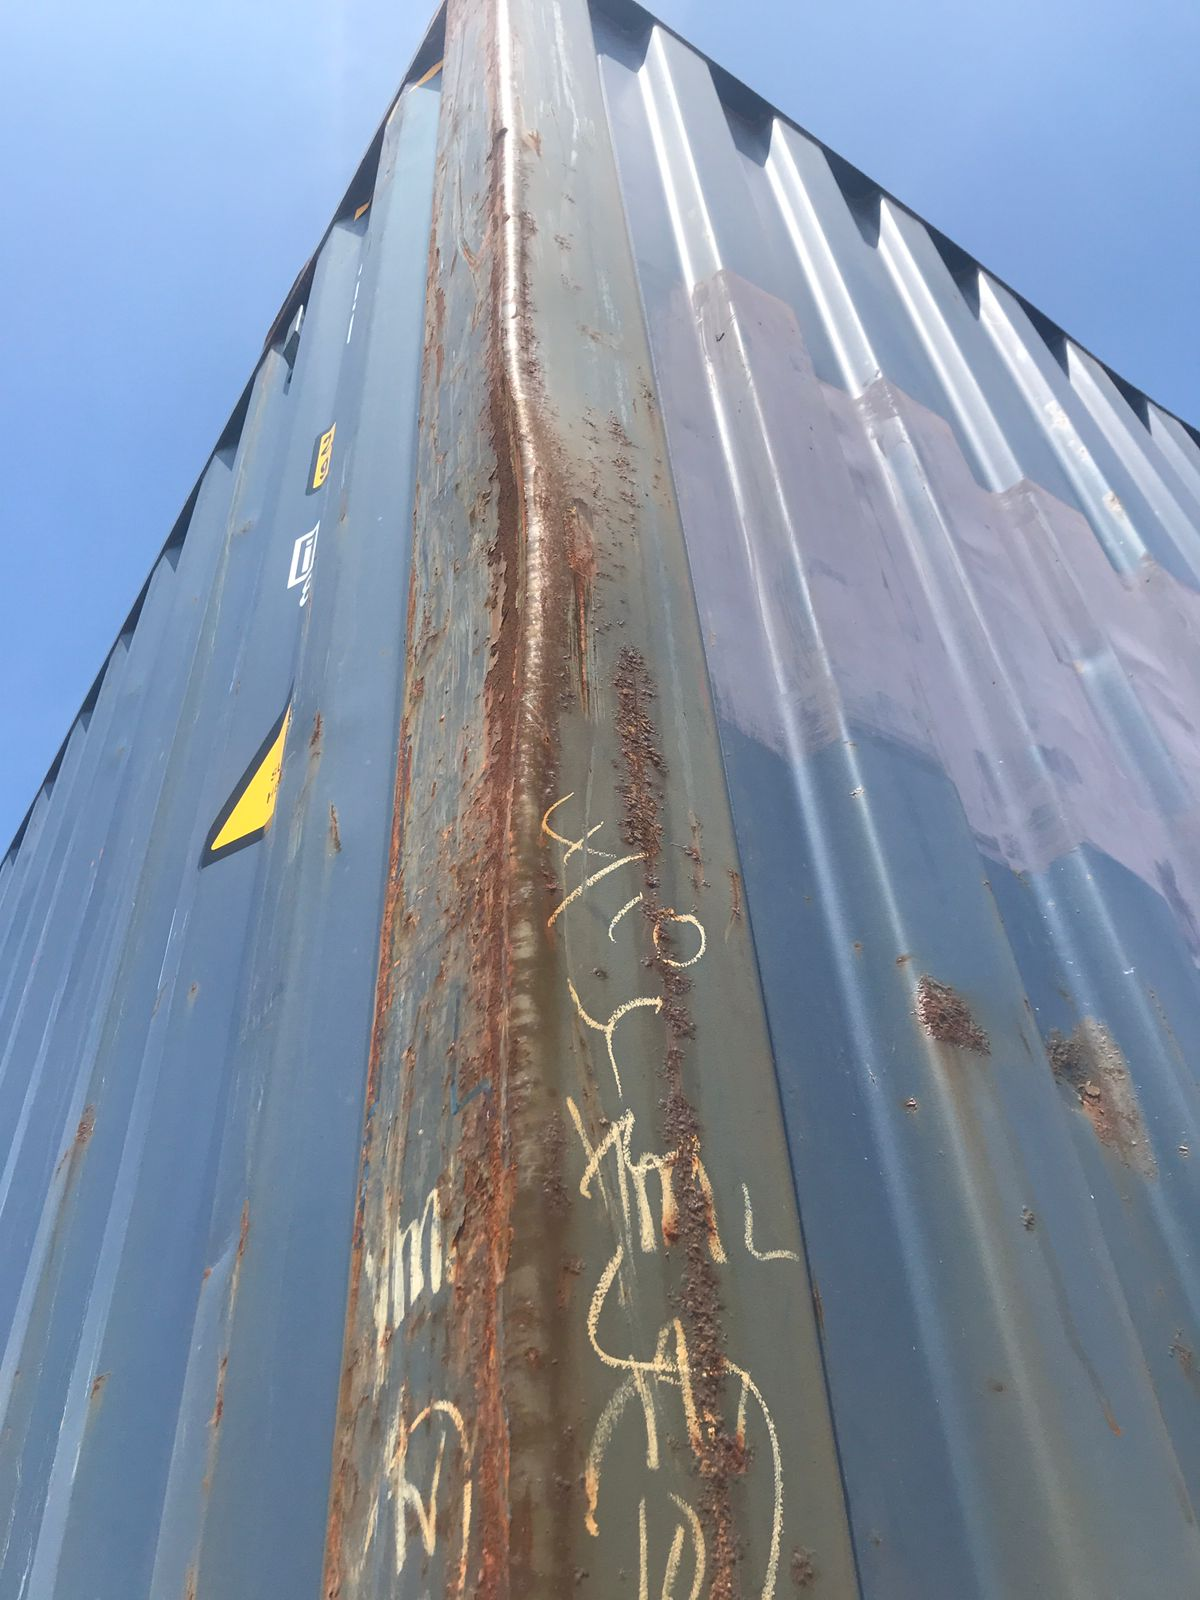rust: (447, 140, 667, 1189), (891, 952, 1176, 1164)
